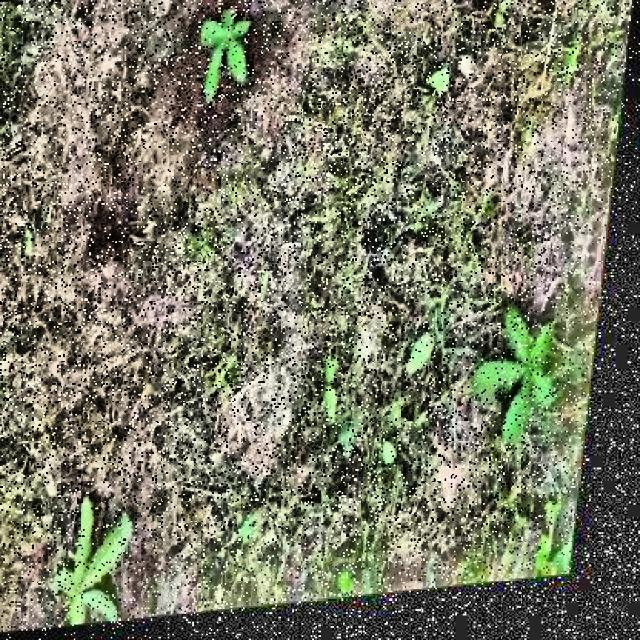Weeds: (470, 306, 578, 456), (61, 495, 148, 631), (192, 4, 262, 108)
